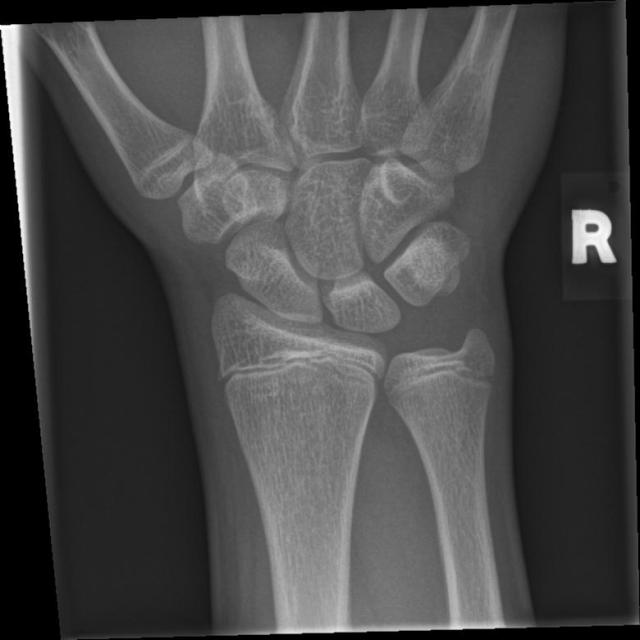fracture: (206, 342, 387, 402), (376, 352, 509, 412)
